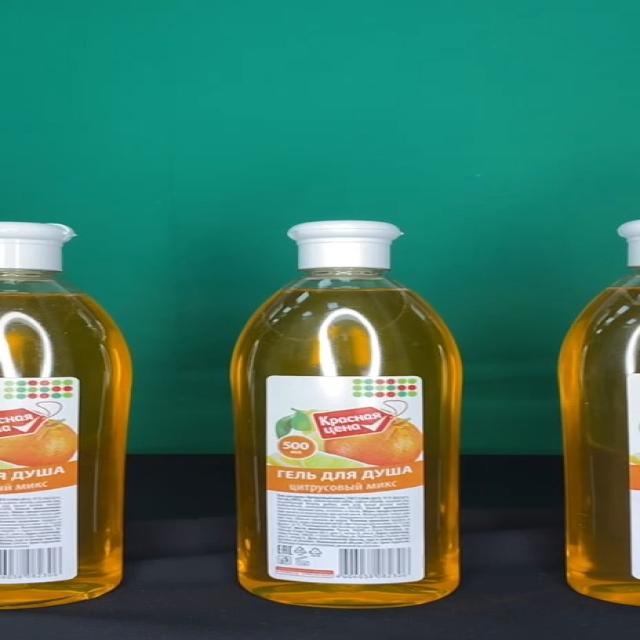Bottle: (230, 221, 463, 609)
Cap: (286, 222, 404, 269)
